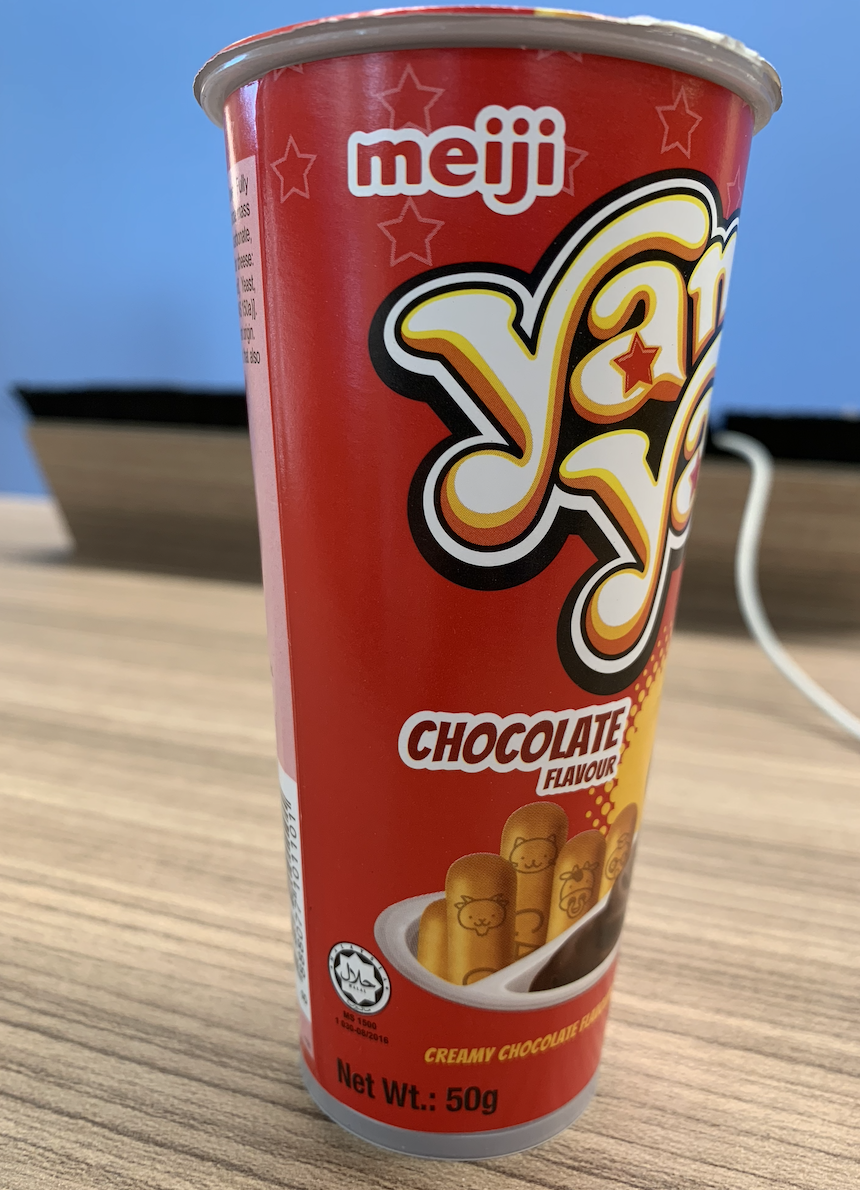cookies_1g-99g: (310, 89, 662, 1138)
